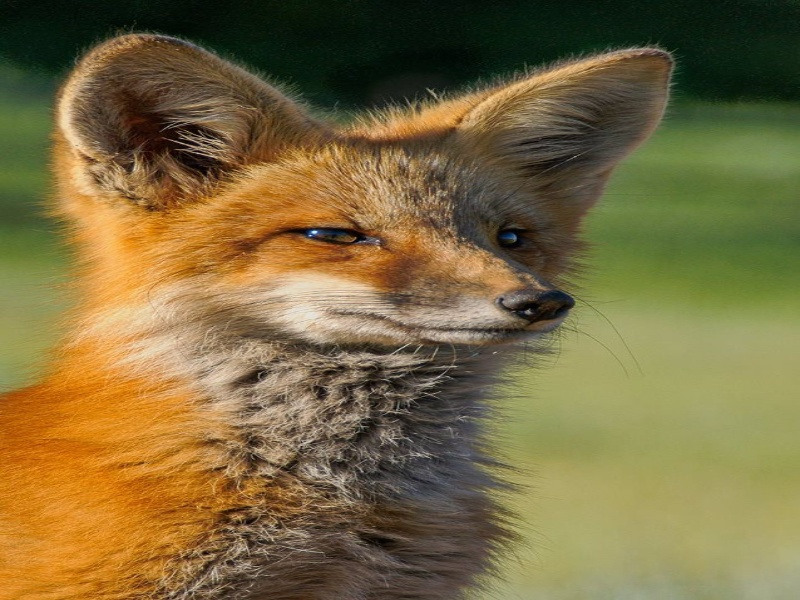fox: (10, 31, 683, 585)
